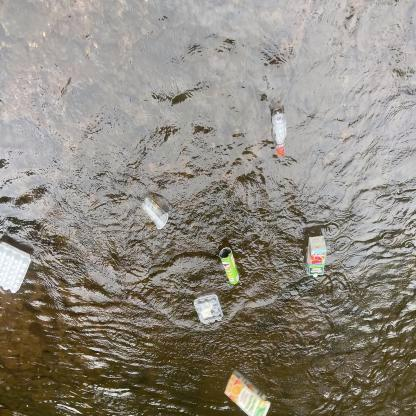Metal: (217, 244, 241, 288)
Plastic: (0, 237, 35, 296), (140, 196, 170, 235), (193, 292, 226, 327), (272, 106, 288, 158)
